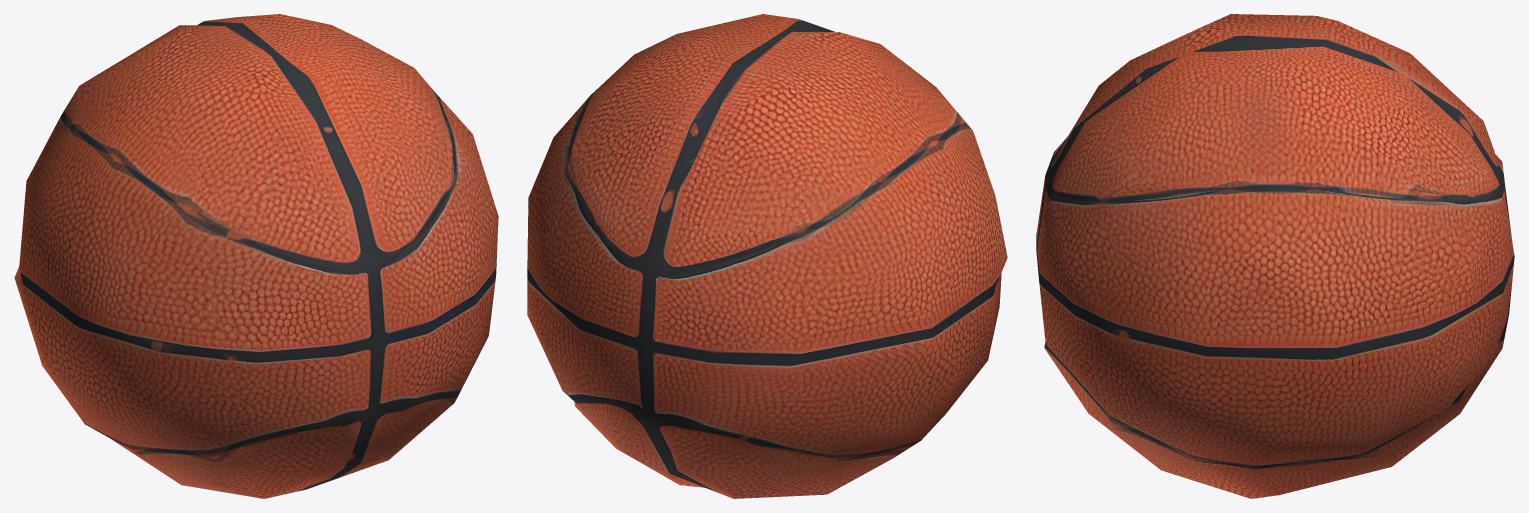
File: TripoModel.glb
The picture shows the model from 3 angles, left to right: view 1: azimuth 30°, elevation 25°; view 2: azimuth 150°, elevation 25°; view 3: azimuth 270°, elevation 25°; orthographic projection.
Visible parts, largest first — view 1: tripo_node_5e9cce67-7885-4913-b36a-4eecc1bfabf1; view 2: tripo_node_5e9cce67-7885-4913-b36a-4eecc1bfabf1; view 3: tripo_node_5e9cce67-7885-4913-b36a-4eecc1bfabf1.
Part boxes in pixels (<box>): tripo_node_5e9cce67-7885-4913-b36a-4eecc1bfabf1: <box>14,14,498,498</box>; tripo_node_5e9cce67-7885-4913-b36a-4eecc1bfabf1: <box>527,14,1007,498</box>; tripo_node_5e9cce67-7885-4913-b36a-4eecc1bfabf1: <box>1036,14,1514,498</box>.
Size of the model in its own units: 0.9868 by 0.9845 by 0.994.
1 material, 1 textured.
